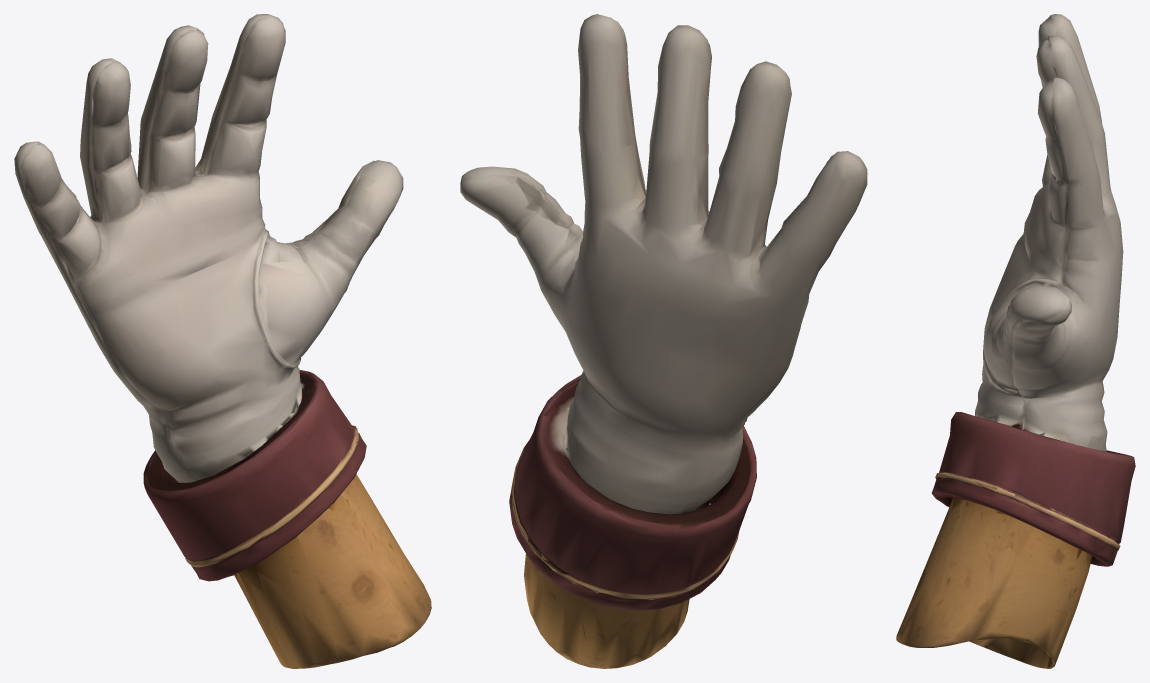
File: glove-static-v1.glb
3 renders of one model, left to right at view 1: azimuth 30°, elevation 25°; view 2: azimuth 150°, elevation 25°; view 3: azimuth 270°, elevation 25°, orthographic. The views are drawn at different scales.
Visible parts, largest first — view 1: GloveSource; view 2: GloveSource; view 3: GloveSource.
Part boxes in pixels (x1=…): GloveSource: x1=14, y1=14, x2=431, y2=668; GloveSource: x1=460, y1=14, x2=867, y2=668; GloveSource: x1=896, y1=14, x2=1135, y2=668.
Bounding box in the file's own units: 0.2763 × 0.44 × 0.162.
1 material, 1 textured.
